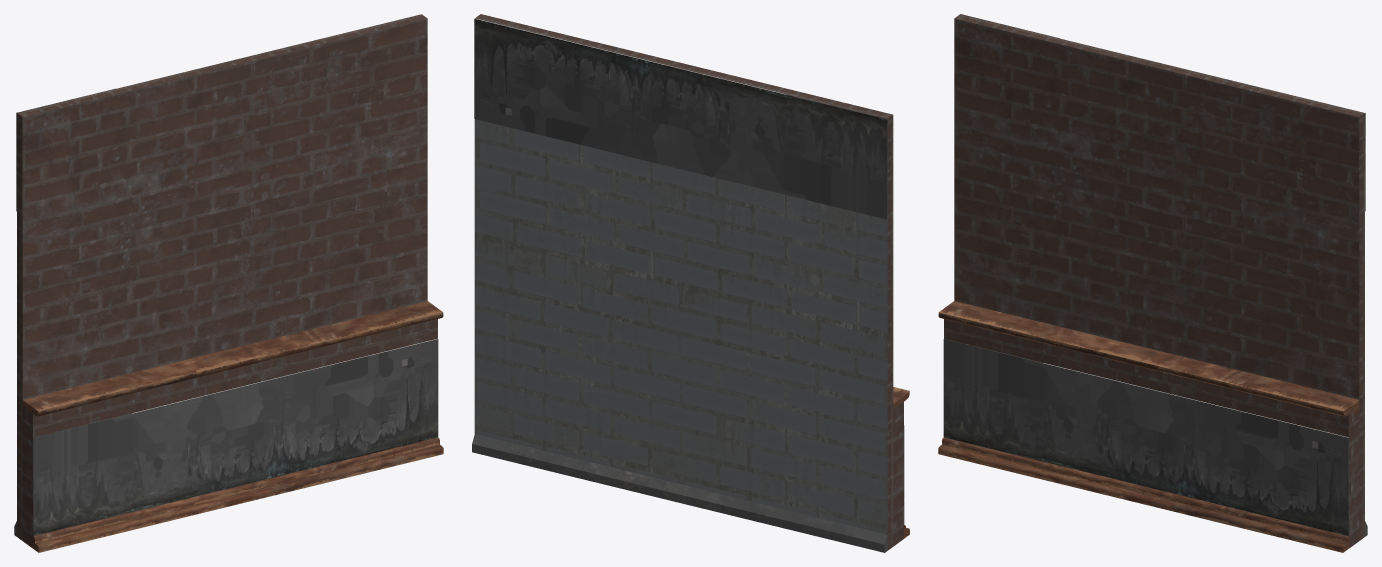
The model's file is Kit_BricksExtrude.fbx.
The picture shows the model from 3 angles, left to right: view 1: azimuth 30°, elevation 25°; view 2: azimuth 150°, elevation 25°; view 3: azimuth 330°, elevation 25°; orthographic projection.
Parts seen in each view (by area): view 1: Kit_BricksExtrude; view 2: Kit_BricksExtrude; view 3: Kit_BricksExtrude.
Boxes of the visible parts, x1,y1,x2,y2 form: Kit_BricksExtrude: [14, 14, 443, 552]; Kit_BricksExtrude: [472, 14, 909, 552]; Kit_BricksExtrude: [938, 14, 1367, 552].
Bounding box in the file's own units: 157 × 157 × 16.59.
